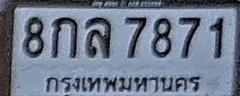1: (210, 17, 224, 58)
7: (125, 16, 147, 58), (179, 16, 201, 58)
8: (23, 16, 44, 57), (152, 17, 172, 57)
A01: (52, 16, 78, 58)
A36: (85, 17, 112, 58)
BKK: (40, 73, 203, 96)
